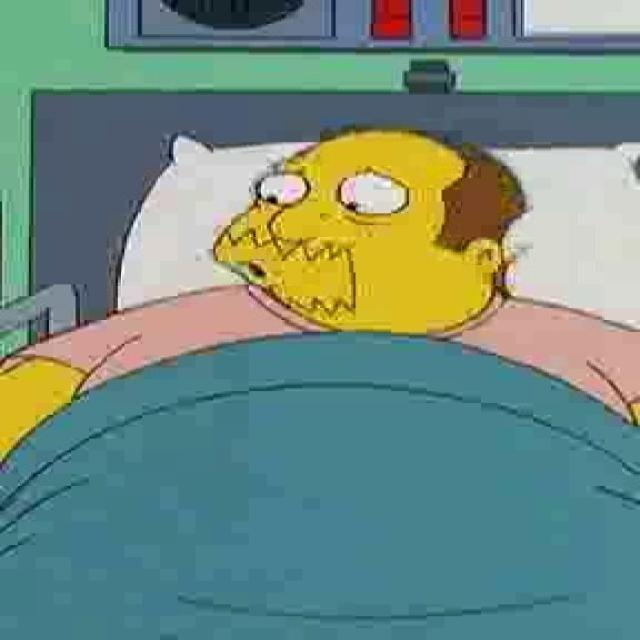Comic Book Guy: (204, 127, 534, 336)
